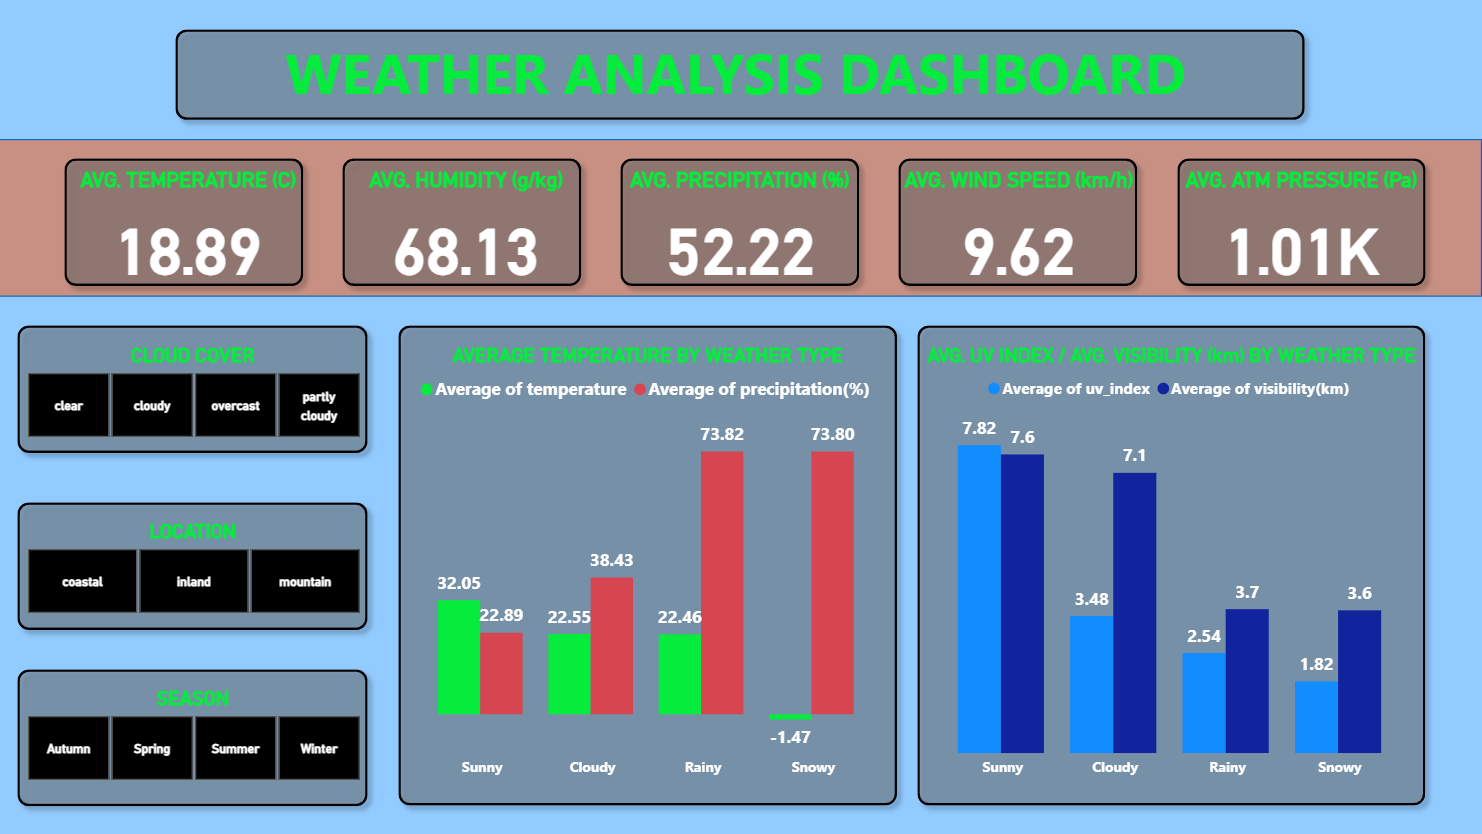

The dashboard page shown, as its layout file describes it:
{"tool":"powerbi","page":{"name":"Page 1","canvas":[1280,720],"ordinal":0},"visuals":[{"type":"shape","box":[144,16,992,96],"z":0},{"type":"shape","box":[0,120,1280,136],"z":500},{"type":"textbox","box":[232,24,808,80],"z":1000},{"type":"shape","box":[48,128,224,128],"z":2000},{"type":"shape","box":[288,128,224,128],"z":3000},{"type":"shape","box":[528,128,224,128],"z":4000},{"type":"shape","box":[768,128,224,128],"z":5000},{"type":"shape","box":[1008,128,232,128],"z":6000},{"type":"shape","box":[8,272,320,128],"z":7000},{"type":"shape","box":[8,424,320,128],"z":8000},{"type":"shape","box":[8,568,320,136],"z":9000},{"type":"shape","box":[336,272,448,432],"z":10000},{"type":"shape","box":[784,272,456,432],"z":11000},{"type":"card","title":"AVG. TEMPERATURE (C)","fields":{"Values":["Avg(weather_data.temperature)"]},"box":[64,144,200,112],"z":12000},{"type":"card","title":"AVG. HUMIDITY (g/kg)","fields":{"Values":["Avg(weather_data.humidity)"]},"box":[304,144,200,112],"z":13000},{"type":"card","title":"AVG. PRECIPITATION (%)","fields":{"Values":["Avg(weather_data.precipitation(%))"]},"box":[536,144,208,112],"z":14000},{"type":"card","title":"AVG. WIND SPEED (km/h)","fields":{"Values":["Avg(weather_data.wind_speed)"]},"box":[776,144,208,112],"z":15000},{"type":"card","title":"AVG. ATM PRESSURE (Pa)","fields":{"Values":["Avg(weather_data.atmospheric_pressure)"]},"box":[1016,144,216,112],"z":16000},{"type":"slicer","title":"CLOUD COVER","fields":{"Values":["weather_data.cloud_cover"]},"box":[0,296,336,88],"z":17000},{"type":"slicer","title":"LOCATION","fields":{"Values":["weather_data.location"]},"box":[0,448,336,88],"z":18000},{"type":"slicer","title":"SEASON","fields":{"Values":["weather_data.season"]},"box":[0,592,336,88],"z":19000},{"type":"clusteredColumnChart","title":"AVERAGE TEMPERATURE BY WEATHER TYPE","fields":{"Category":["weather_data.weather_type"],"Y":["Avg(weather_data.temperature)","Avg(weather_data.precipitation(%))"]},"box":[336,296,448,384],"z":20000},{"type":"clusteredColumnChart","title":"AVG. UV INDEX / AVG. VISIBILITY (km) BY WEATHER TYPE","fields":{"Category":["weather_data.weather_type"],"Y":["Avg(weather_data.uv_index)","Avg(weather_data.visibility(km))"]},"box":[784,296,456,384],"z":21000}]}

Visuals, with their boxes in screenshot pixels (x1, y1, x2, y2), scaled from the page's 1280x720 canvas onto the 1482x834 screenshot:
shape: <bbox>167, 19, 1315, 130</bbox>
shape: <bbox>0, 139, 1481, 297</bbox>
textbox: <bbox>269, 28, 1204, 120</bbox>
shape: <bbox>56, 148, 315, 297</bbox>
shape: <bbox>333, 148, 593, 297</bbox>
shape: <bbox>611, 148, 871, 297</bbox>
shape: <bbox>889, 148, 1149, 297</bbox>
shape: <bbox>1167, 148, 1436, 297</bbox>
shape: <bbox>9, 315, 380, 463</bbox>
shape: <bbox>9, 491, 380, 639</bbox>
shape: <bbox>9, 658, 380, 815</bbox>
shape: <bbox>389, 315, 908, 815</bbox>
shape: <bbox>908, 315, 1436, 815</bbox>
"AVG. TEMPERATURE (C)" card: <bbox>74, 167, 306, 297</bbox>
"AVG. HUMIDITY (g/kg)" card: <bbox>352, 167, 584, 297</bbox>
"AVG. PRECIPITATION (%)" card: <bbox>621, 167, 861, 297</bbox>
"AVG. WIND SPEED (km/h)" card: <bbox>898, 167, 1139, 297</bbox>
"AVG. ATM PRESSURE (Pa)" card: <bbox>1176, 167, 1426, 297</bbox>
"CLOUD COVER" slicer: <bbox>0, 343, 389, 445</bbox>
"LOCATION" slicer: <bbox>0, 519, 389, 621</bbox>
"SEASON" slicer: <bbox>0, 686, 389, 788</bbox>
"AVERAGE TEMPERATURE BY WEATHER TYPE" clusteredColumnChart: <bbox>389, 343, 908, 788</bbox>
"AVG. UV INDEX / AVG. VISIBILITY (km) BY WEATHER TYPE" clusteredColumnChart: <bbox>908, 343, 1436, 788</bbox>
